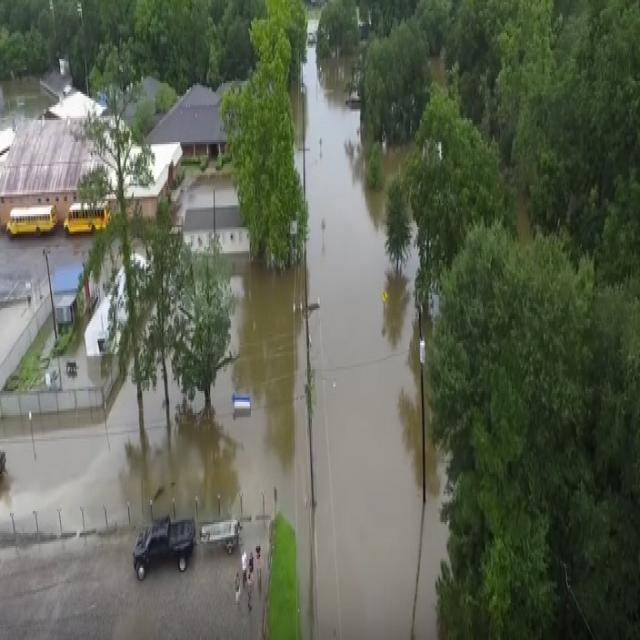flood: (0, 46, 448, 640)
house: (0, 115, 108, 208), (0, 250, 51, 404), (152, 82, 226, 163), (121, 138, 180, 220), (186, 186, 247, 254), (52, 267, 94, 310), (40, 66, 74, 94)
